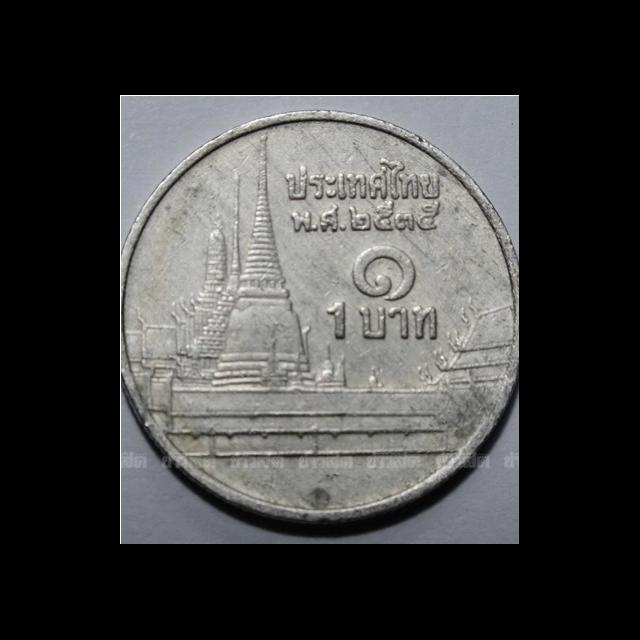1-baht: (120, 96, 520, 544)
